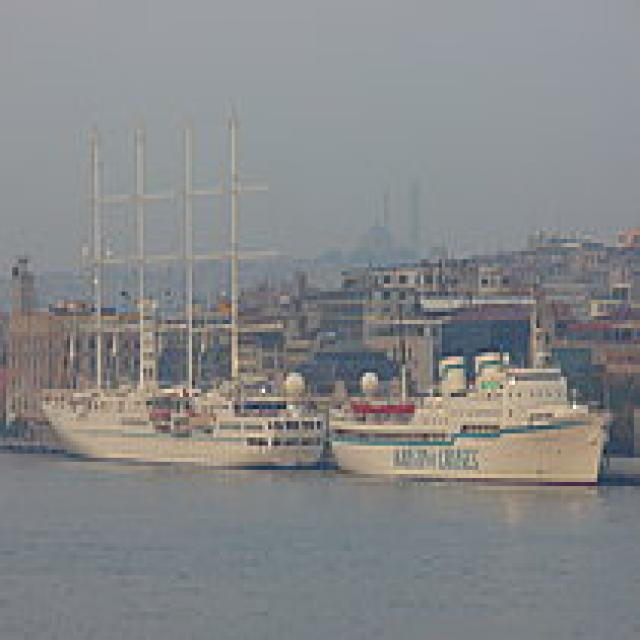Ship: (324, 321, 626, 495)
